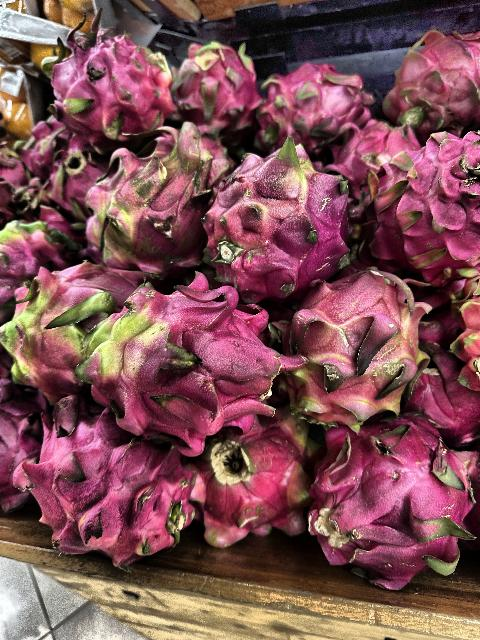buah-naga-belum-matang: (68, 284, 284, 446), (200, 133, 362, 301), (288, 263, 426, 427), (82, 135, 208, 277), (1, 268, 131, 398), (0, 212, 74, 292)
buah-naga-matang: (14, 395, 202, 561), (307, 414, 477, 588), (40, 17, 176, 141), (183, 422, 317, 546), (364, 140, 480, 262), (376, 28, 480, 130), (254, 60, 370, 148), (168, 35, 262, 138), (315, 116, 429, 198)
